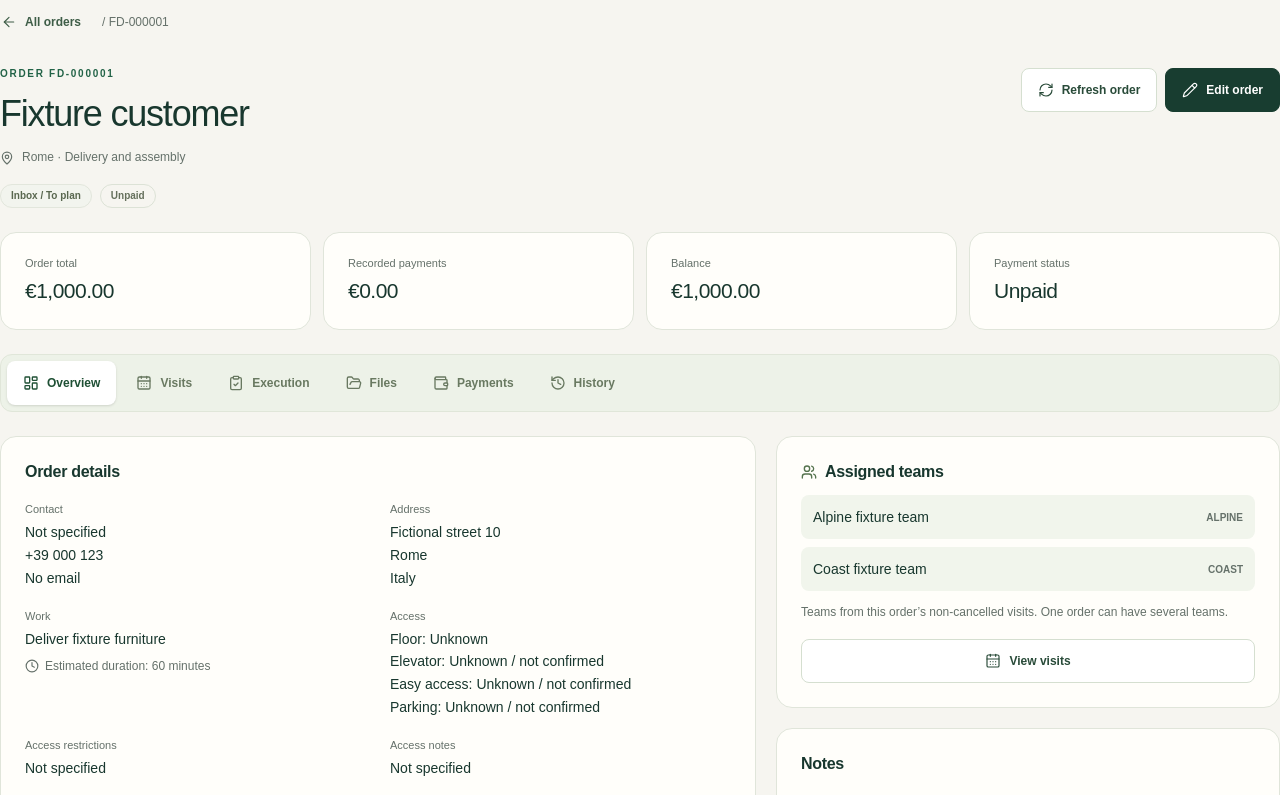
Test: Order detail workspace navigation › clears the order, financial values and workflow panels when access is lost
Expected: the heading "Fixture customer" is shown, [0,93,249,134]
Click the button "Refresh order".
click(1089, 90)  # box [1021,68,1157,112]
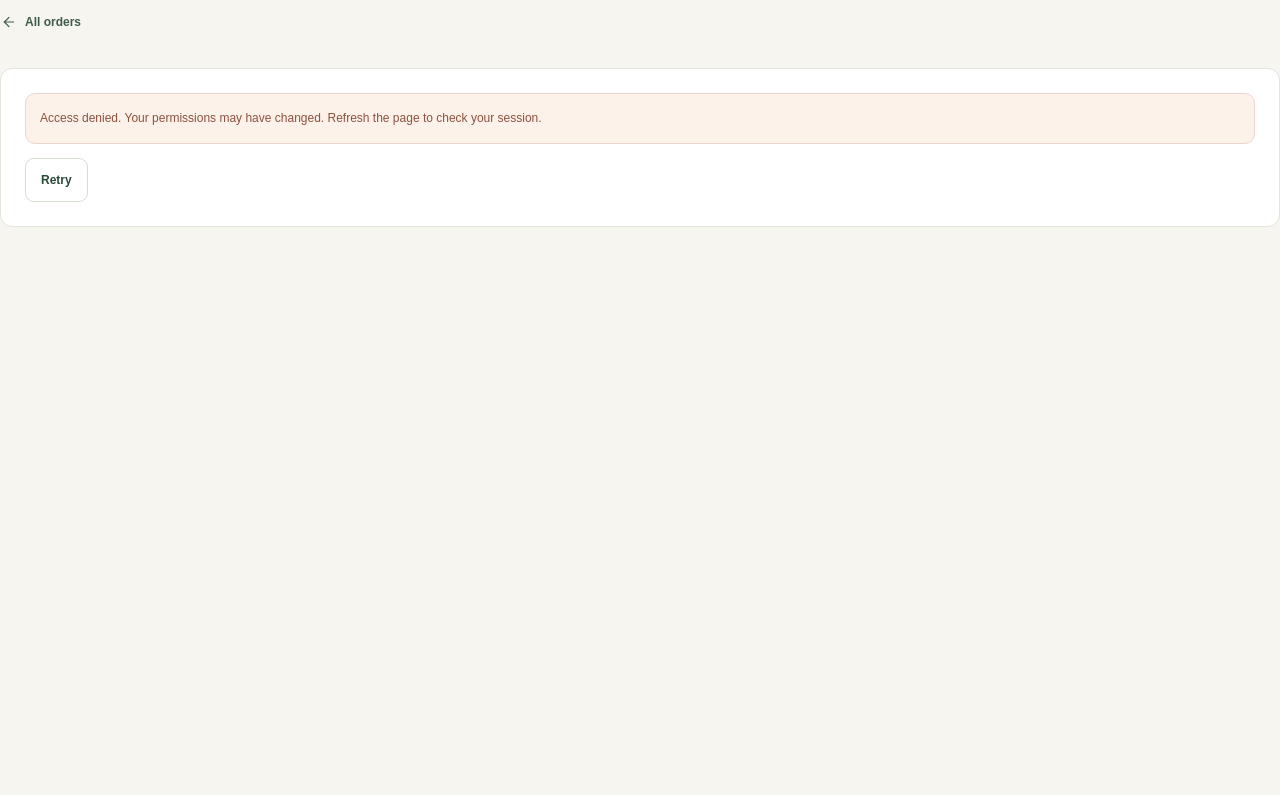
Result: the message shows "Access denied" at [40,111,542,125]
Result: the heading "Fixture customer" is gone
Result: the text "Alpine fixture team" is gone
